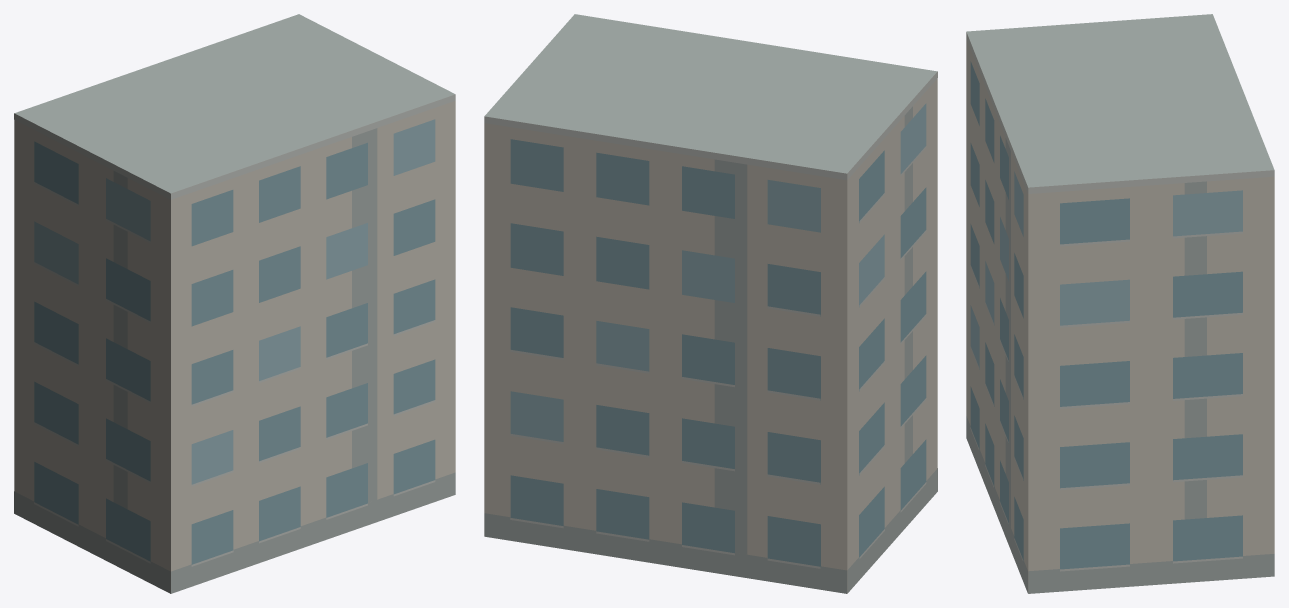
File: residential-cb2622f1-6377-432e-884d-5559650618a6.glb
3 renders of one model, left to right at view 1: azimuth 30°, elevation 25°; view 2: azimuth 150°, elevation 25°; view 3: azimuth 270°, elevation 25°, orthographic. The views are drawn at different scales.
Visible parts, largest first — view 1: residential-cb2622f1-6377-432e-884d-5559650618a6.tmp; view 2: residential-cb2622f1-6377-432e-884d-5559650618a6.tmp; view 3: residential-cb2622f1-6377-432e-884d-5559650618a6.tmp.
Part boxes in pixels (x1,y1,x2,y2): residential-cb2622f1-6377-432e-884d-5559650618a6.tmp: [14, 14, 455, 593]; residential-cb2622f1-6377-432e-884d-5559650618a6.tmp: [484, 14, 937, 593]; residential-cb2622f1-6377-432e-884d-5559650618a6.tmp: [966, 14, 1274, 593].
Size of the model in its own units: 13.98 by 15.25 by 10.5.
